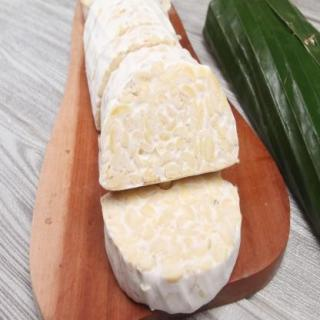Tempe: (79, 2, 243, 316)
